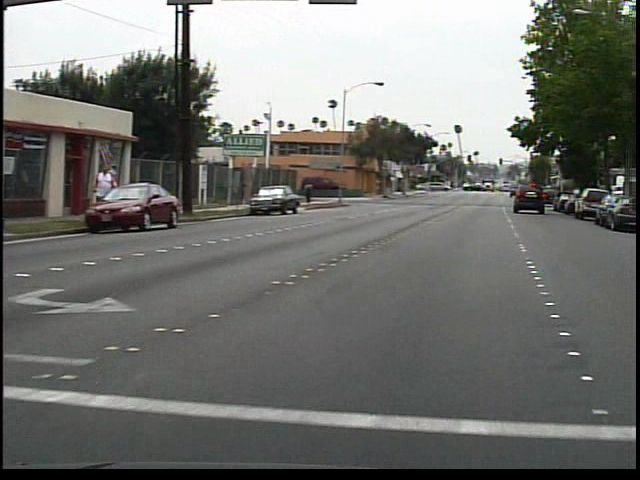person: (94, 158, 125, 224), (307, 177, 321, 206)
